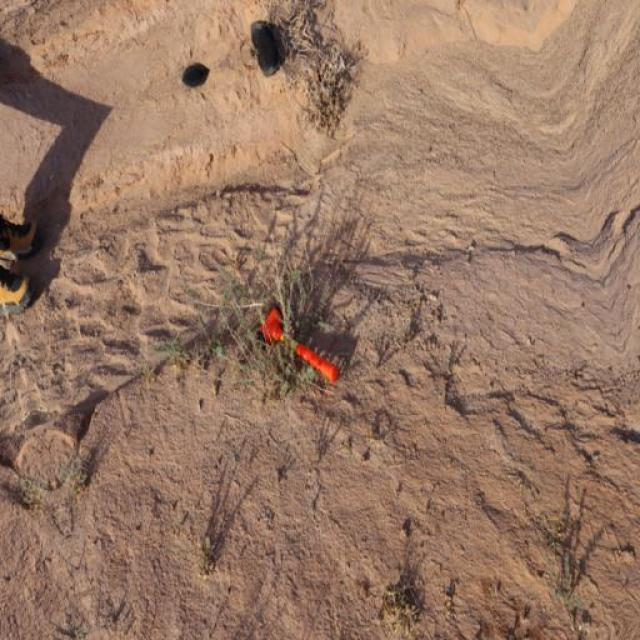mallet: (260, 305, 342, 385)
